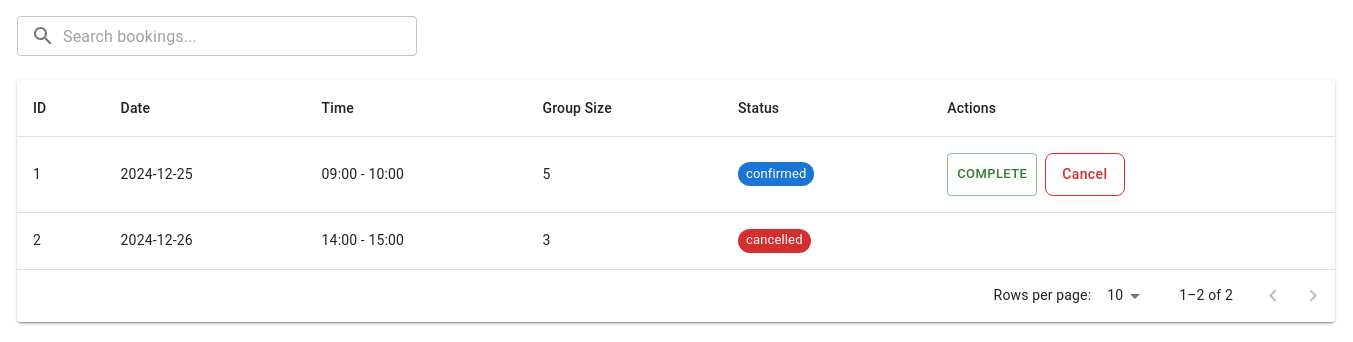
Test: AdminBookingManagement › Search Functionality › should filter bookings based on search term
Step 1. Type "2024-12-26" into the field with placeholder "Search bookings..." → (240, 36), box [63,16,417,56]
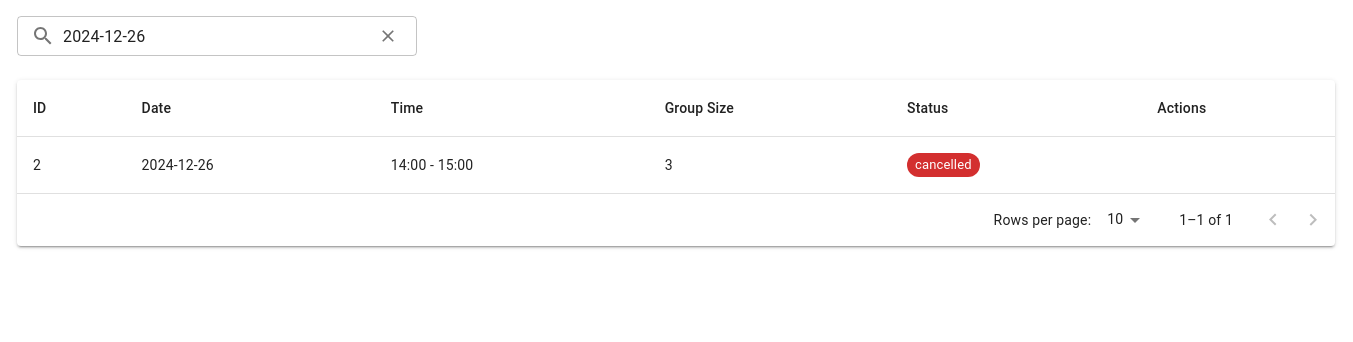
Expected: the text "2024-12-26" is shown, [126,136,375,194]
Now the text "2024-12-25" is gone
